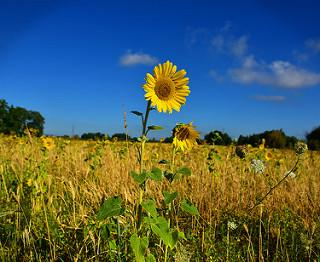sunflower: (143, 61, 189, 112), (172, 123, 200, 153)
